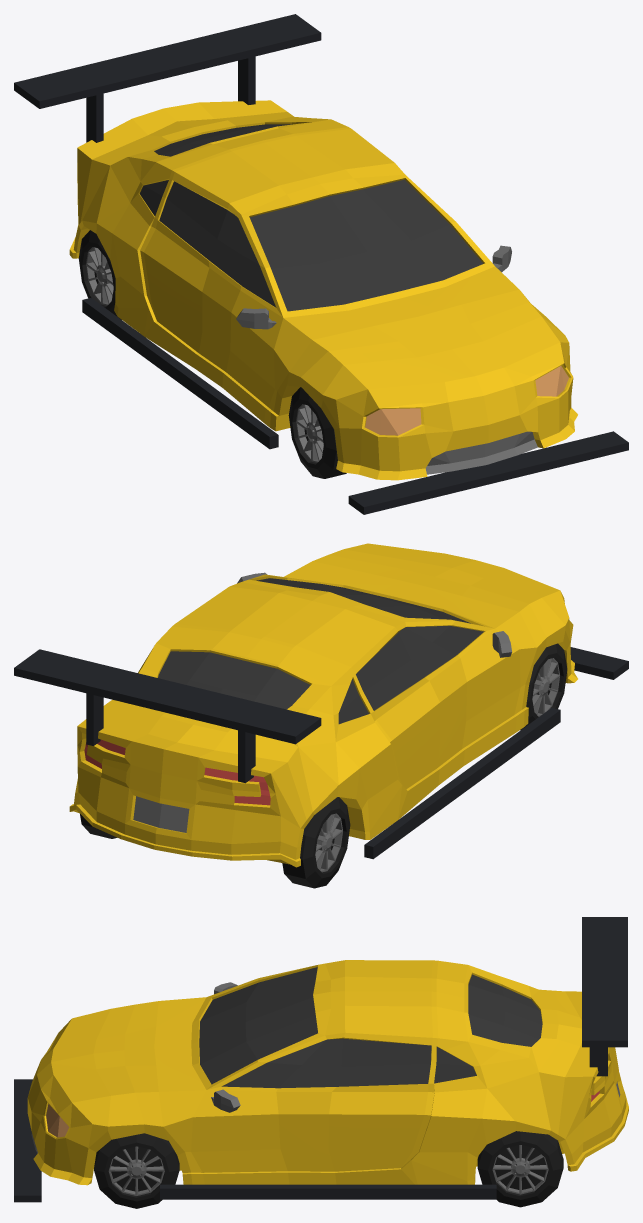
File: supercar.glb
3 renders of one model, top to bottom at view 1: azimuth 30°, elevation 25°; view 2: azimuth 150°, elevation 25°; view 3: azimuth 270°, elevation 25°, orthographic. The views are drawn at different scales.
Parts seen in each view (by area): view 1: SportsCar2; view 2: SportsCar2; view 3: SportsCar2.
Part boxes in pixels (box(x1,y1,x2,y2)): SportsCar2: box(14, 14, 628, 514); SportsCar2: box(14, 543, 628, 888); SportsCar2: box(14, 917, 628, 1208).
Size of the model in its own units: 1.97 by 1.29 by 4.02.
